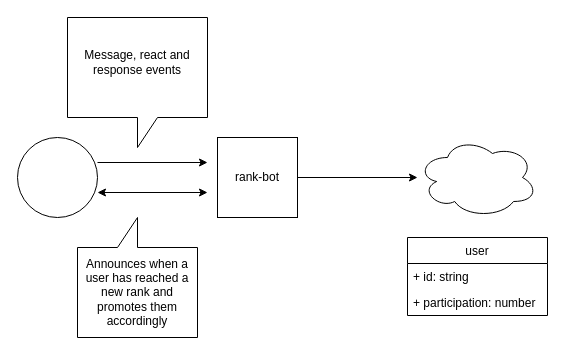
Some shapes in this 565 by 355 pixel diagram are drawn without their labels. The shapes that lost their labels are listed below. From the top down, each one's centre as x and y in pixels, then its label:
At [57,177]: "Discord".
At [477,177]: "DynamoDB".
